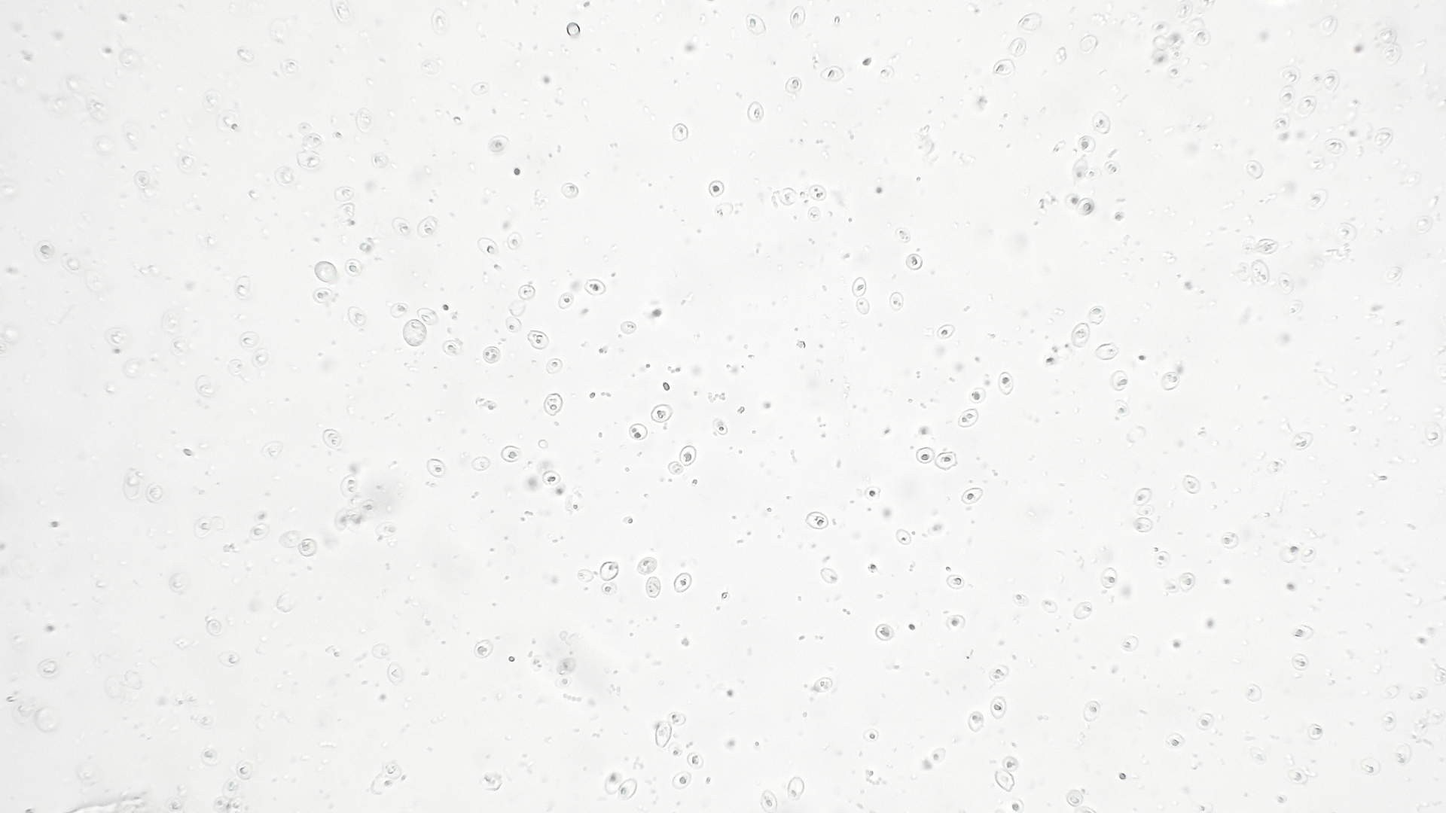yeasy: (798, 509, 834, 535), (740, 11, 769, 40), (1318, 68, 1339, 102), (1249, 257, 1272, 288), (474, 235, 499, 263), (1068, 320, 1092, 349), (523, 328, 552, 352), (541, 390, 563, 421), (958, 484, 984, 510), (416, 214, 443, 239), (649, 402, 675, 427), (389, 214, 415, 239), (343, 305, 368, 331), (1106, 367, 1130, 394), (596, 560, 623, 584), (992, 769, 1017, 794), (1287, 624, 1318, 644), (651, 720, 670, 752), (307, 286, 337, 306), (197, 744, 222, 768), (1276, 62, 1300, 87), (955, 407, 981, 430), (668, 769, 694, 792), (582, 277, 609, 299), (386, 662, 408, 689), (995, 370, 1016, 398), (641, 574, 662, 602), (1319, 136, 1348, 156), (342, 257, 366, 281), (234, 759, 257, 784), (1089, 111, 1112, 136), (601, 770, 623, 796), (630, 556, 660, 575), (1254, 237, 1281, 258), (943, 568, 966, 592), (469, 639, 493, 662), (1006, 36, 1029, 60), (1304, 189, 1328, 212), (1081, 699, 1103, 724), (679, 443, 700, 469), (1295, 92, 1316, 118), (278, 57, 304, 78), (322, 425, 342, 452), (34, 239, 54, 266), (785, 775, 804, 803), (1290, 430, 1313, 453), (499, 444, 523, 466), (757, 789, 779, 813), (1358, 757, 1382, 779), (871, 622, 896, 643), (417, 306, 442, 327), (618, 775, 638, 801), (670, 572, 693, 594), (541, 356, 564, 378), (561, 183, 584, 205), (1133, 514, 1155, 537), (1093, 343, 1121, 361), (1335, 221, 1359, 242), (777, 186, 798, 210), (946, 610, 966, 635), (425, 458, 450, 478), (233, 274, 253, 299), (1318, 13, 1338, 38), (484, 135, 510, 154), (1379, 265, 1405, 284), (1393, 741, 1412, 767), (966, 708, 984, 735), (1277, 270, 1295, 297), (807, 181, 829, 203), (1180, 475, 1202, 497), (1163, 730, 1186, 751), (990, 694, 1008, 720), (667, 708, 689, 729), (1219, 530, 1240, 552), (1160, 371, 1181, 393), (1075, 136, 1097, 157), (238, 332, 261, 352), (1063, 787, 1083, 810), (1178, 568, 1195, 595), (746, 100, 765, 124), (811, 677, 835, 696), (935, 452, 960, 470), (441, 336, 459, 361), (468, 455, 493, 473), (816, 67, 846, 82), (340, 472, 357, 498), (819, 565, 840, 586), (1099, 567, 1120, 588), (480, 346, 502, 366), (1076, 198, 1098, 218), (685, 749, 704, 772), (783, 75, 806, 94), (789, 5, 806, 30), (914, 446, 935, 466), (967, 386, 987, 407), (1243, 683, 1264, 703), (1289, 653, 1310, 673), (1304, 723, 1324, 744), (987, 665, 1009, 684), (1413, 216, 1435, 235), (1071, 601, 1094, 619), (538, 471, 565, 486), (854, 295, 874, 315), (711, 418, 731, 438), (503, 315, 523, 335), (389, 300, 409, 320), (299, 538, 319, 558), (993, 59, 1018, 75), (556, 291, 575, 312), (670, 121, 689, 142), (1277, 87, 1295, 109), (516, 283, 535, 303), (1194, 712, 1213, 732), (1133, 486, 1153, 505), (1299, 545, 1318, 565), (504, 230, 522, 251), (334, 187, 355, 205), (1244, 160, 1265, 178), (1192, 29, 1213, 47), (626, 425, 651, 440), (888, 291, 905, 313), (1380, 711, 1396, 734), (850, 276, 869, 295), (863, 483, 882, 502), (1103, 160, 1123, 178), (248, 524, 270, 540), (1155, 548, 1171, 570), (468, 81, 491, 96), (937, 322, 956, 340), (1039, 598, 1058, 616), (1272, 112, 1289, 132), (1120, 635, 1141, 651), (895, 528, 913, 546), (862, 728, 881, 745), (554, 674, 574, 690), (618, 321, 639, 336), (896, 225, 911, 246), (906, 252, 923, 270), (133, 170, 151, 187), (1002, 755, 1020, 772), (805, 206, 822, 224), (577, 568, 595, 584), (1063, 193, 1081, 209), (599, 581, 619, 595), (1011, 591, 1027, 607), (668, 460, 683, 477), (709, 180, 722, 197)
